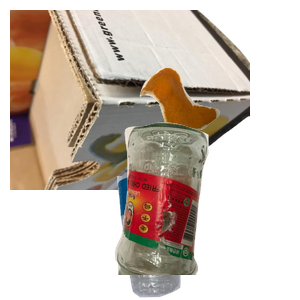cardboard: (10, 10, 250, 190)
glass: (112, 120, 300, 300)
plastic: (115, 176, 288, 300)
trash: (137, 65, 300, 188)
